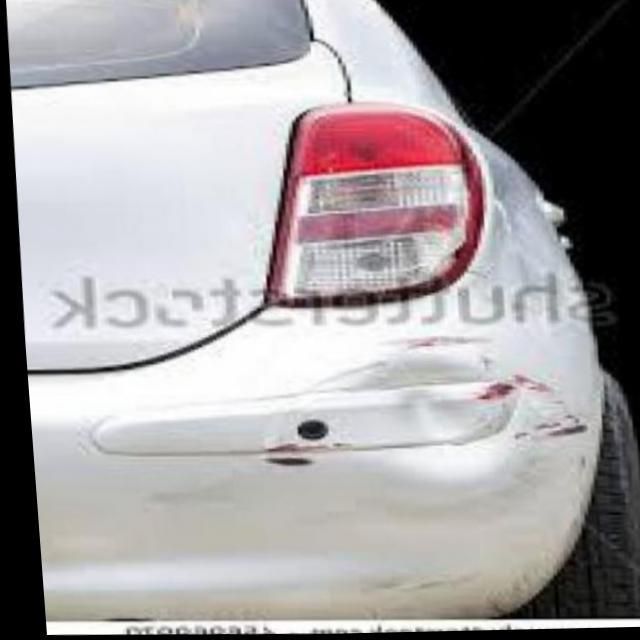dent: (218, 336, 574, 499)
